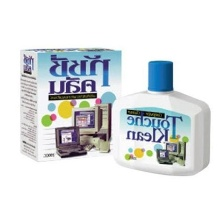book: (17, 45, 128, 163)
cleaning_solution: (108, 56, 216, 179)
